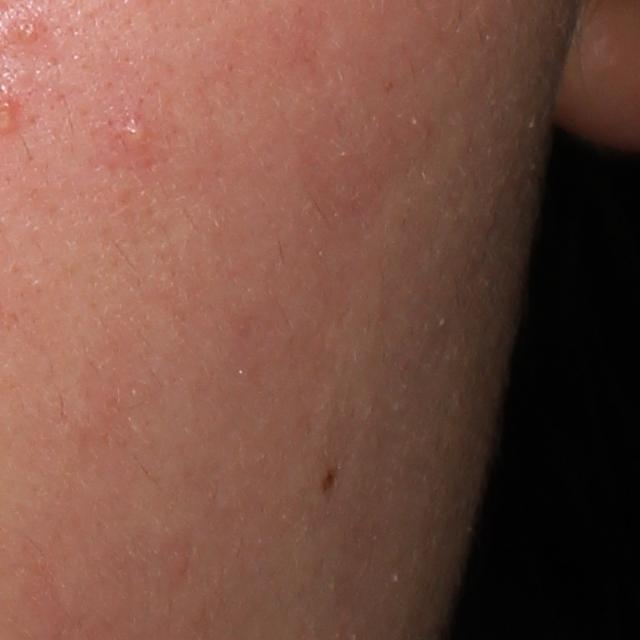nevus: (316, 464, 339, 499)
pustule: (116, 116, 152, 151)
